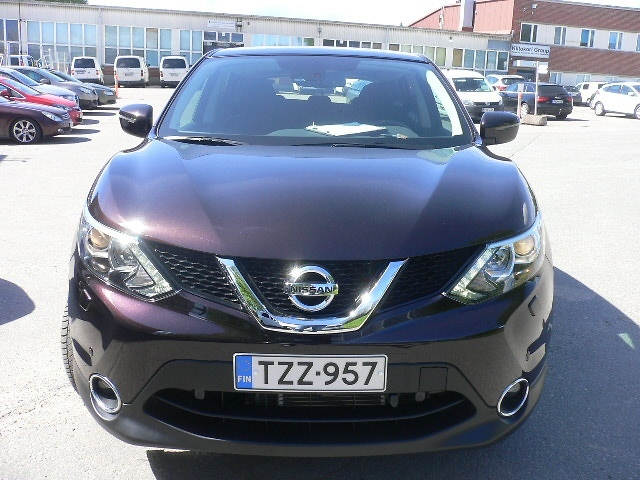license: (229, 354, 385, 391)
